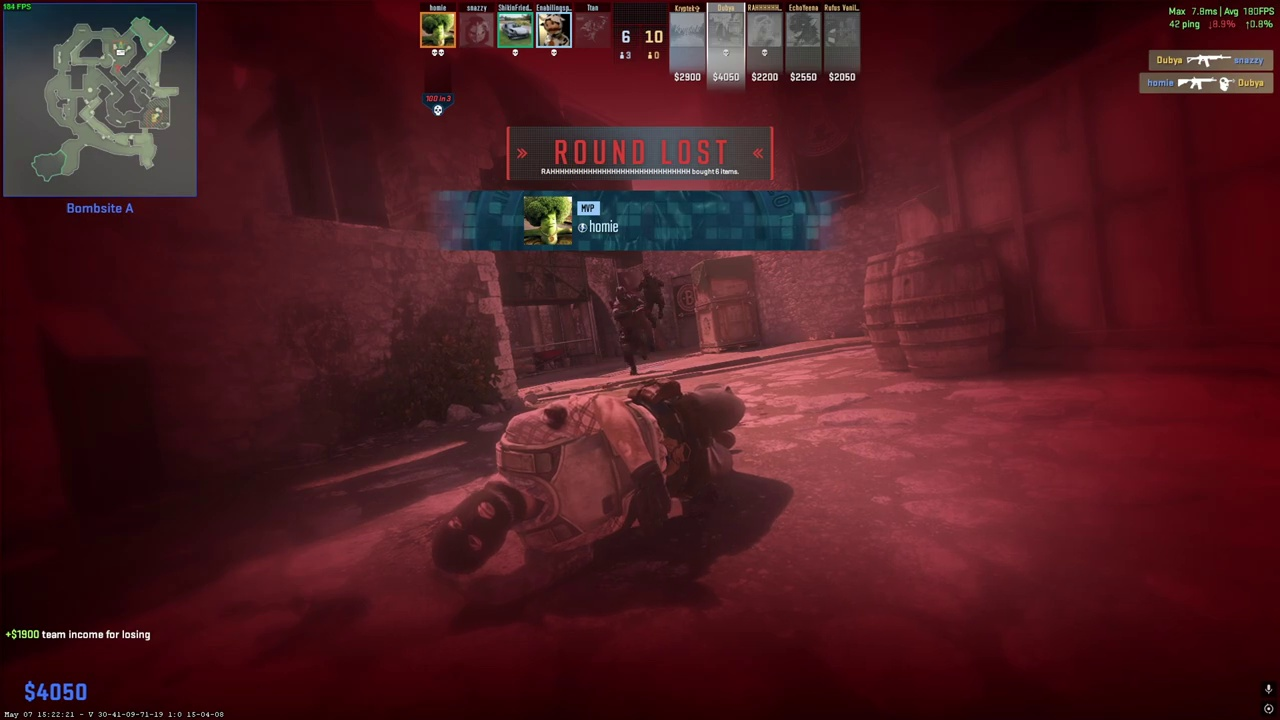CT: (611, 286, 648, 376), (638, 269, 666, 329)
